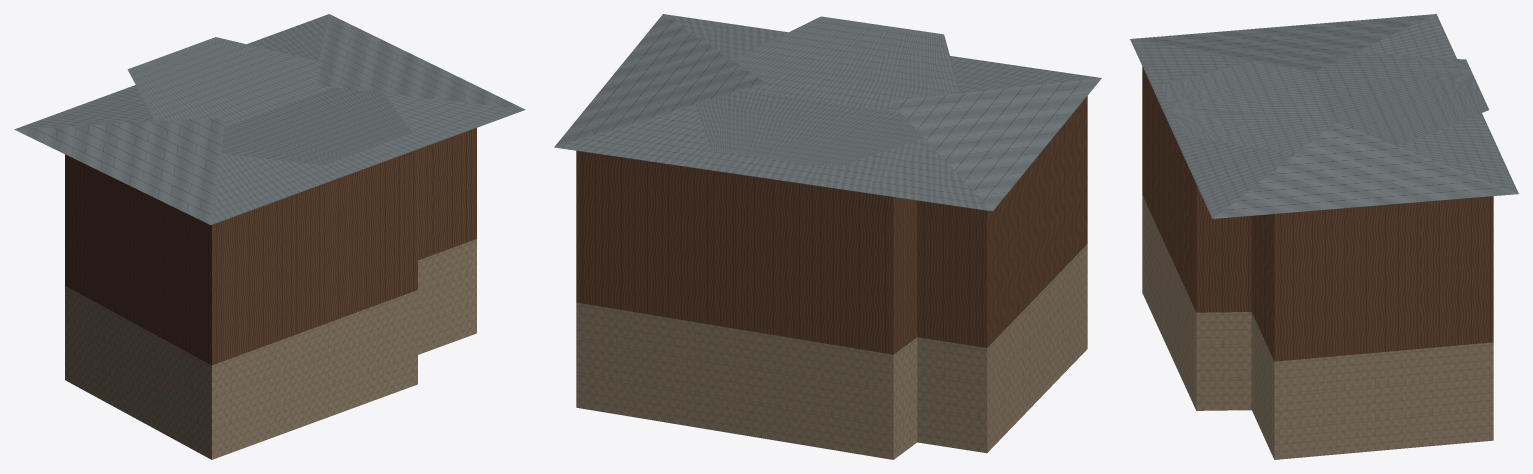
Rendered from bld_c-15_0_728.gltf.
The picture shows the model from 3 angles, left to right: view 1: azimuth 30°, elevation 25°; view 2: azimuth 150°, elevation 25°; view 3: azimuth 270°, elevation 25°; orthographic projection. The views are drawn at different scales.
Visible parts, largest first — view 1: bld_c-15_0_728; view 2: bld_c-15_0_728; view 3: bld_c-15_0_728.
Boxes of the visible parts, x1=… form: bld_c-15_0_728: x1=14, y1=14, x2=525, y2=459; bld_c-15_0_728: x1=554, y1=14, x2=1101, y2=459; bld_c-15_0_728: x1=1130, y1=14, x2=1518, y2=459.
Bounding box in the file's own units: 22.83 × 14 × 18.29.
Materials: 3 (3 with a texture image).
